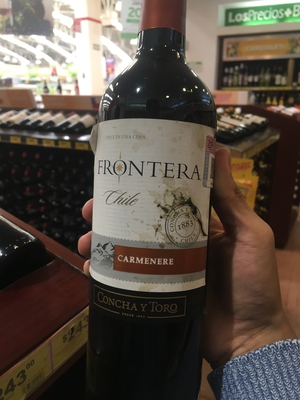frontera carmenere: (86, 14, 227, 383)
